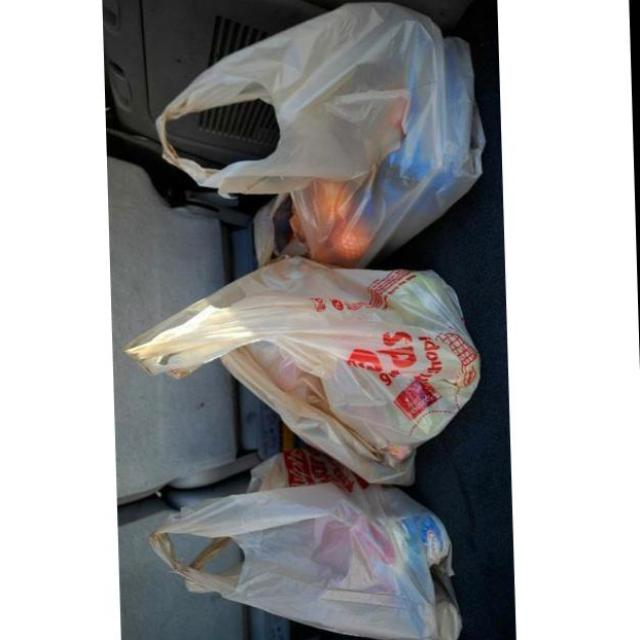plastik: (156, 2, 484, 267), (126, 257, 480, 485), (150, 485, 460, 640)
